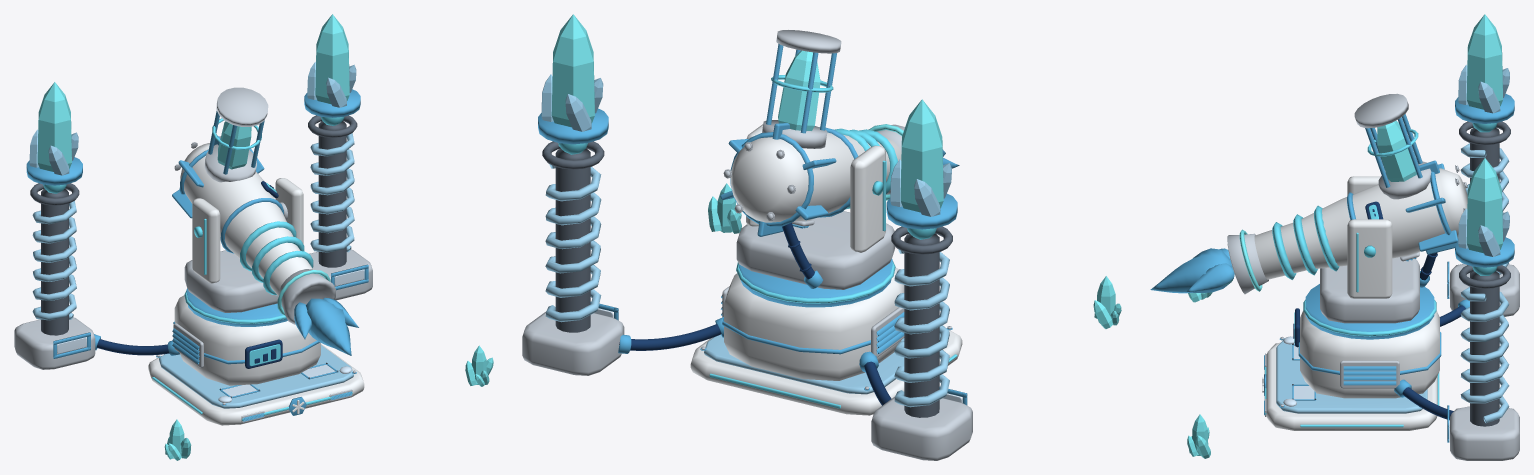
Rendered from FlamethrowerTurret_T3.fbx.
3 renders of one model, left to right at view 1: azimuth 30°, elevation 25°; view 2: azimuth 150°, elevation 25°; view 3: azimuth 270°, elevation 25°, orthographic. The views are drawn at different scales.
Parts seen in each view (by area): view 1: FlamethrowerTurretT3Pylons, FlamethrowerTurretT3Pedestal, FlamethrowerTurretT3Cannon, FlamethrowerTurretT3Deck, FlamethrowerTurretT3Turret, FlamethrowerTurretT3PylonsGlow, FlamethrowerTurretT3Chamber, FlamethrowerTurretT3FlameGlow, FlamethrowerTurretT3CannonCoilsGlow, FlamethrowerTurretT3DeckCrystalsGlow, FlamethrowerTurretT3ChamberGlow, FlamethrowerTurretT3PedestalGlow (+2 smaller); view 2: FlamethrowerTurretT3Pylons, FlamethrowerTurretT3Pedestal, FlamethrowerTurretT3Turret, FlamethrowerTurretT3Cannon, FlamethrowerTurretT3PylonsGlow, FlamethrowerTurretT3Deck, FlamethrowerTurretT3Chamber, FlamethrowerTurretT3Cables, FlamethrowerTurretT3ChamberGlow, FlamethrowerTurretT3DeckCrystalsGlow, FlamethrowerTurretT3CannonFins, FlamethrowerTurretT3PedestalGlow (+2 smaller); view 3: FlamethrowerTurretT3Pylons, FlamethrowerTurretT3Pedestal, FlamethrowerTurretT3Cannon, FlamethrowerTurretT3Turret, FlamethrowerTurretT3Deck, FlamethrowerTurretT3PylonsGlow, FlamethrowerTurretT3Chamber, FlamethrowerTurretT3FlameGlow, FlamethrowerTurretT3ChamberGlow, FlamethrowerTurretT3CannonCoilsGlow, FlamethrowerTurretT3Cables, FlamethrowerTurretT3CannonFins (+3 smaller).
Boxes of the visible parts, bbox=[...] form: FlamethrowerTurretT3Pylons: bbox=[14, 62, 372, 369]; FlamethrowerTurretT3Pedestal: bbox=[172, 288, 320, 385]; FlamethrowerTurretT3Cannon: bbox=[174, 136, 335, 324]; FlamethrowerTurretT3Deck: bbox=[148, 344, 364, 425]; FlamethrowerTurretT3Turret: bbox=[184, 178, 303, 312]; FlamethrowerTurretT3PylonsGlow: bbox=[37, 14, 349, 193]; FlamethrowerTurretT3Chamber: bbox=[204, 87, 268, 182]; FlamethrowerTurretT3FlameGlow: bbox=[294, 297, 358, 355]; FlamethrowerTurretT3CannonCoilsGlow: bbox=[240, 221, 313, 295]; FlamethrowerTurretT3DeckCrystalsGlow: bbox=[164, 345, 493, 460]; FlamethrowerTurretT3ChamberGlow: bbox=[212, 118, 261, 169]; FlamethrowerTurretT3PedestalGlow: bbox=[184, 290, 286, 366]; FlamethrowerTurretT3Pylons: bbox=[522, 74, 972, 460]; FlamethrowerTurretT3Pedestal: bbox=[721, 259, 904, 380]; FlamethrowerTurretT3Turret: bbox=[736, 124, 895, 289]; FlamethrowerTurretT3Cannon: bbox=[723, 124, 904, 228]; FlamethrowerTurretT3PylonsGlow: bbox=[551, 14, 943, 239]; FlamethrowerTurretT3Deck: bbox=[690, 326, 962, 415]; FlamethrowerTurretT3Chamber: bbox=[762, 30, 841, 148]; FlamethrowerTurretT3Cables: bbox=[618, 222, 891, 405]; FlamethrowerTurretT3ChamberGlow: bbox=[771, 50, 833, 130]; FlamethrowerTurretT3DeckCrystalsGlow: bbox=[708, 183, 1121, 328]; FlamethrowerTurretT3CannonFins: bbox=[720, 123, 836, 236]; FlamethrowerTurretT3PedestalGlow: bbox=[736, 261, 895, 303]; FlamethrowerTurretT3Pylons: bbox=[1447, 64, 1519, 460]; FlamethrowerTurretT3Pedestal: bbox=[1293, 284, 1441, 398]; FlamethrowerTurretT3Cannon: bbox=[1227, 165, 1467, 294]; FlamethrowerTurretT3Turret: bbox=[1320, 176, 1419, 323]; FlamethrowerTurretT3Deck: bbox=[1262, 337, 1437, 430]; FlamethrowerTurretT3PylonsGlow: bbox=[1466, 14, 1502, 275]; FlamethrowerTurretT3Chamber: bbox=[1354, 93, 1431, 199]; FlamethrowerTurretT3FlameGlow: bbox=[1150, 248, 1234, 293]; FlamethrowerTurretT3ChamberGlow: bbox=[1367, 120, 1418, 181]; FlamethrowerTurretT3CannonCoilsGlow: bbox=[1272, 205, 1339, 279]; FlamethrowerTurretT3Cables: bbox=[1394, 252, 1469, 420]; FlamethrowerTurretT3CannonFins: bbox=[1365, 160, 1458, 254].
Size of the model in its own units: 520 by 426 by 464.
